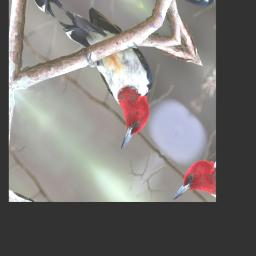Woodpecker: (29, 0, 176, 154)
